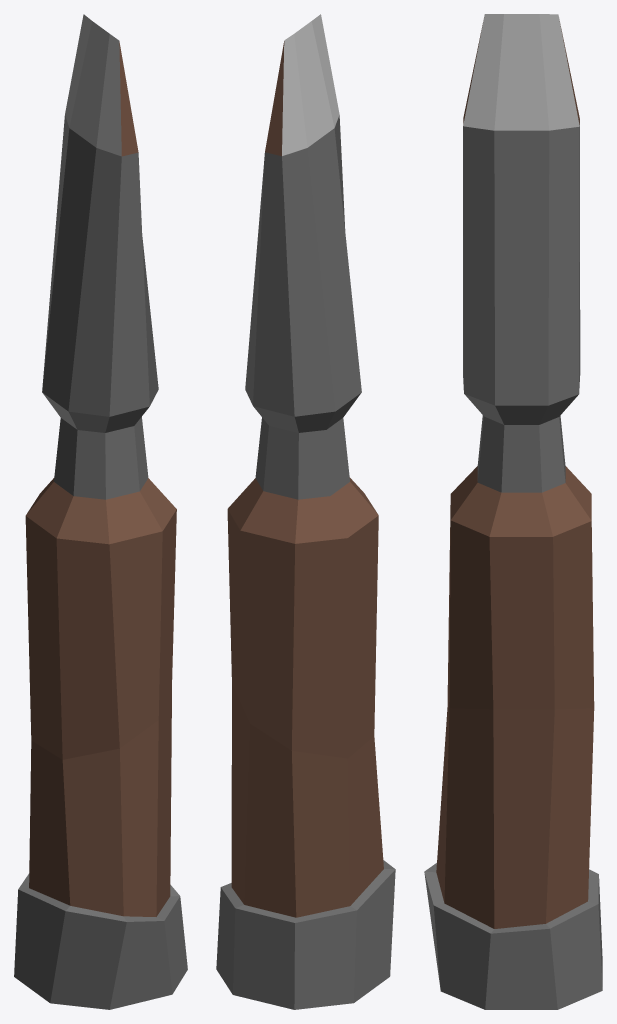
Rendered from Долото.fbx.
The picture shows the model from 3 angles, left to right: view 1: azimuth 30°, elevation 25°; view 2: azimuth 150°, elevation 25°; view 3: azimuth 270°, elevation 25°; orthographic projection.
Parts seen in each view (by area): view 1: Cube; view 2: Cube; view 3: Cube.
Boxes of the visible parts, x1,y1,x2,y2 form: Cube: (14, 14, 187, 1009); Cube: (216, 14, 395, 1009); Cube: (424, 14, 602, 1009).
Bounding box in the file's own units: 53.41 × 350 × 58.83.
